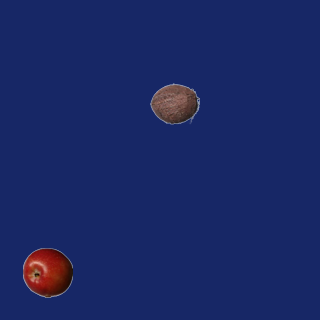Apple Braeburn: (22, 247, 72, 297)
Cocos: (149, 78, 199, 128)
